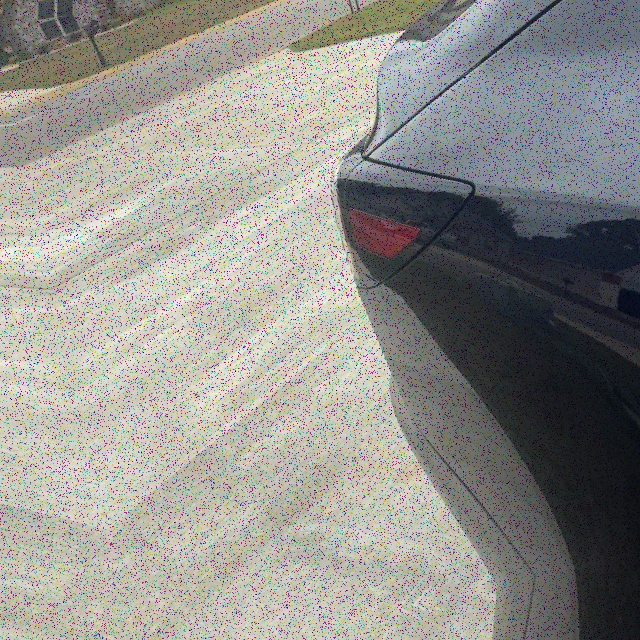reflector: (347, 194, 424, 265)
